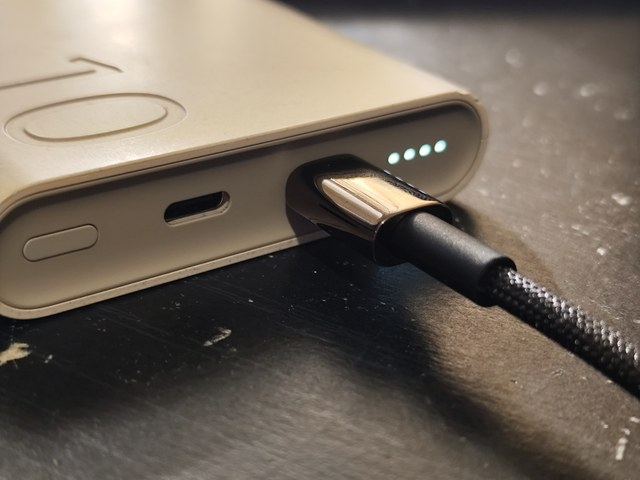Noise Buds Mini: (32, 24, 608, 456)
